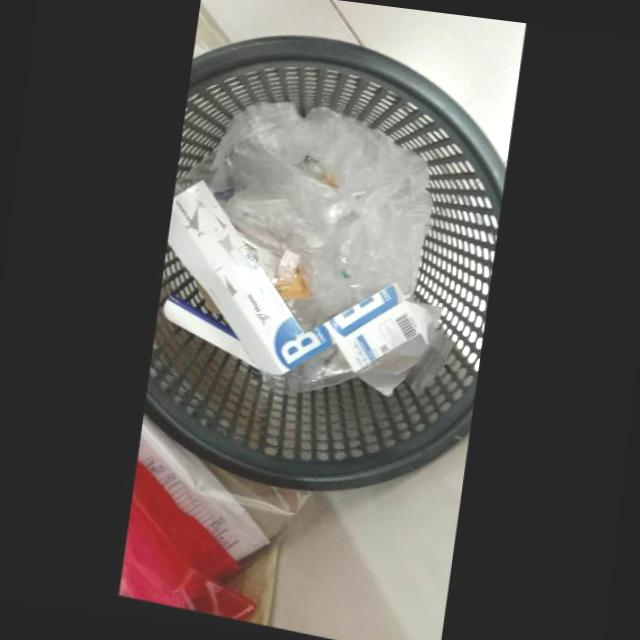carton: (162, 187, 432, 381)
tui_ni_long: (206, 107, 433, 334)
